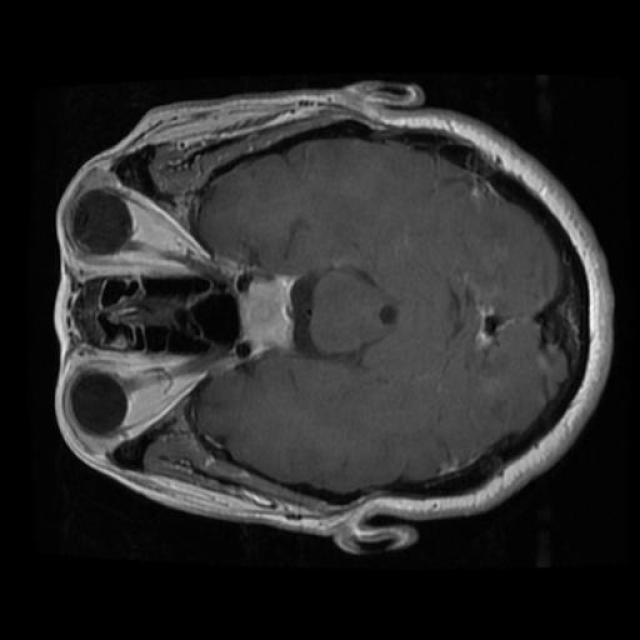Pituitary: (231, 264, 300, 361)
